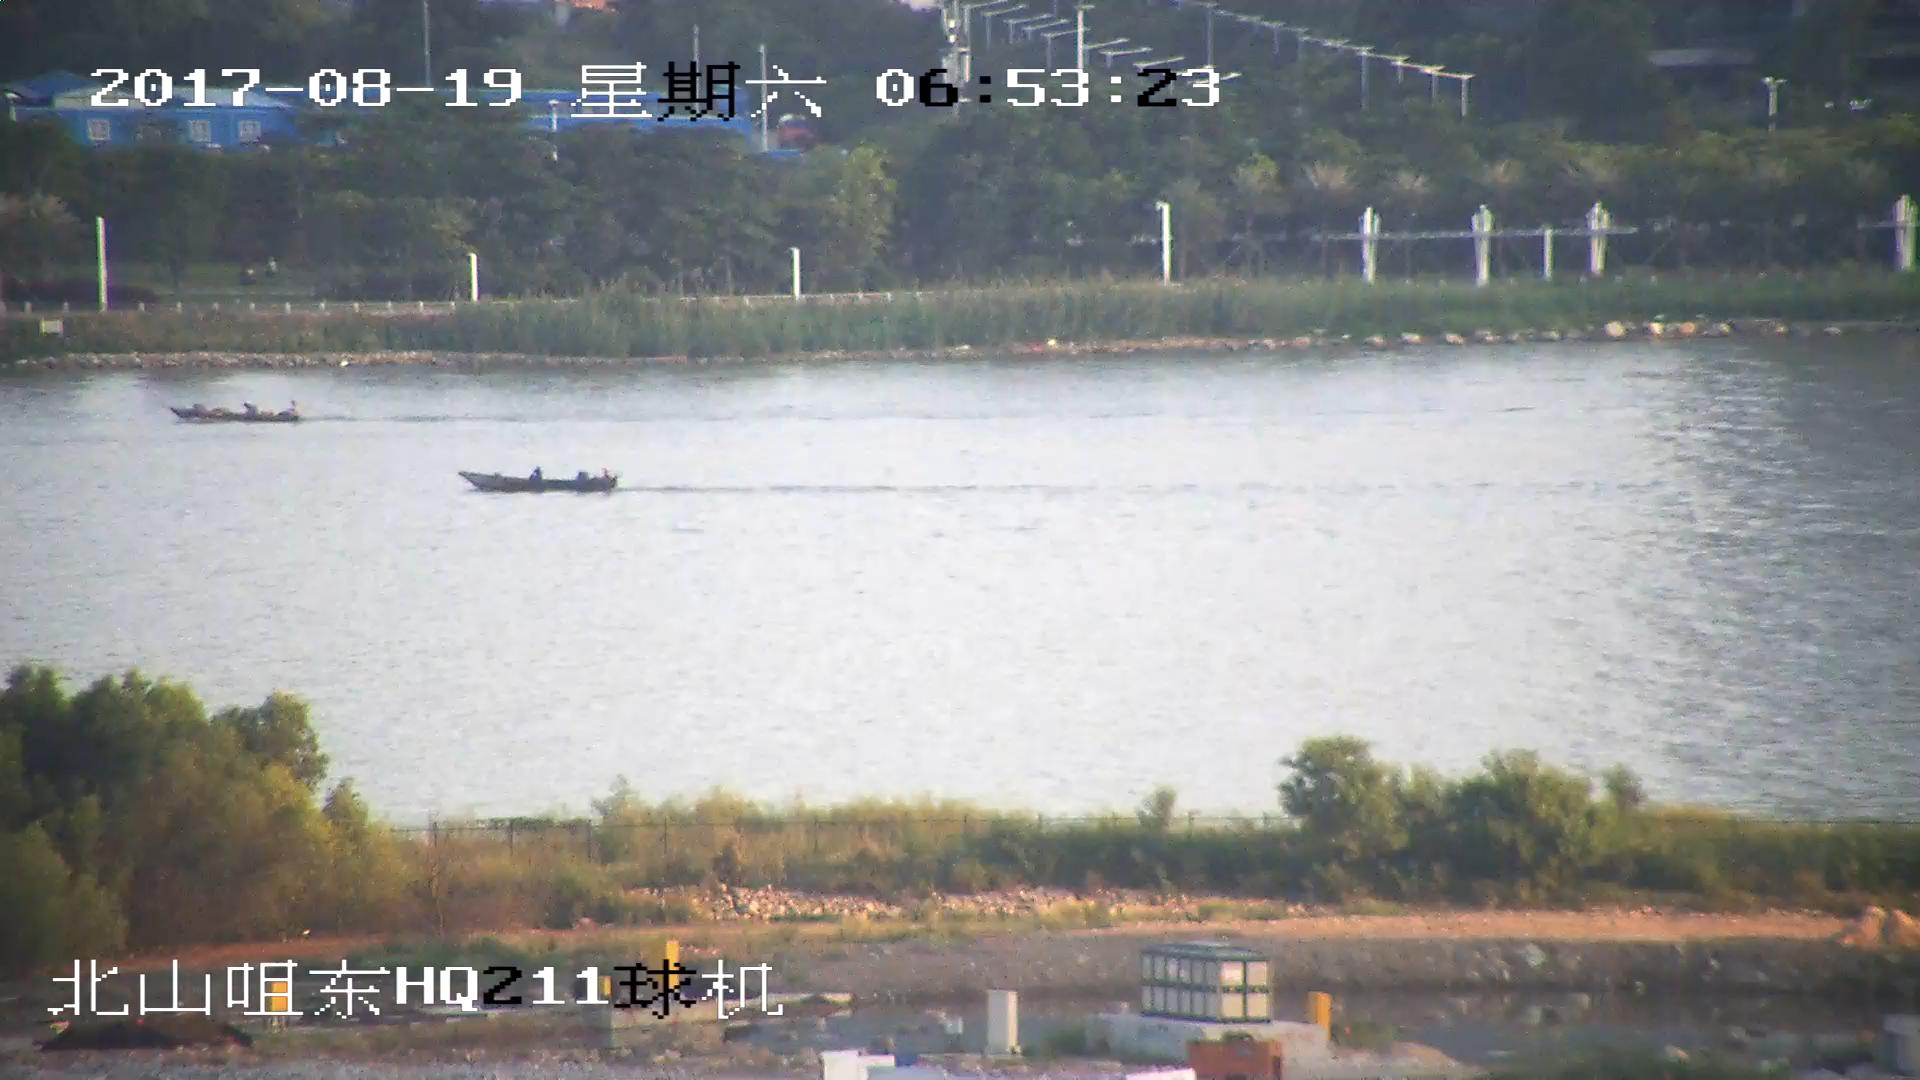fishing boat: (458, 465, 616, 495), (170, 398, 305, 423)
